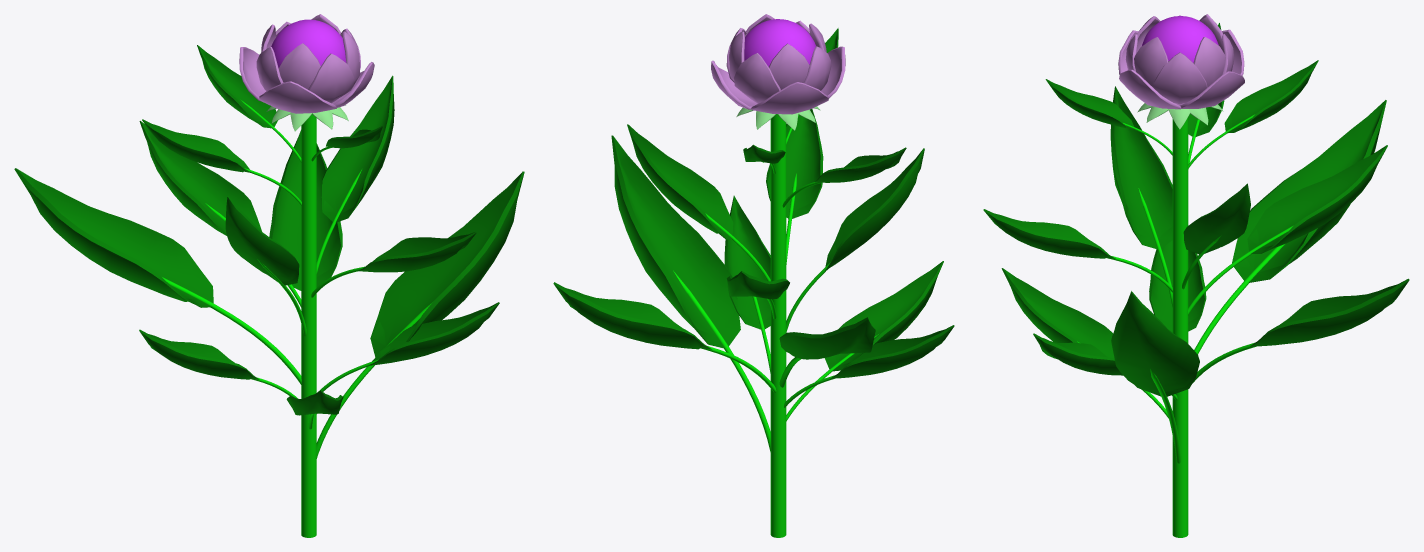
The model's file is Kaihuku.fbx.
The picture shows the model from 3 angles, left to right: view 1: azimuth 30°, elevation 25°; view 2: azimuth 150°, elevation 25°; view 3: azimuth 270°, elevation 25°; orthographic projection.
Visible parts, largest first — view 1: pCylinder7, pPlane13, pCylinder2, pSphere1, pPlane7; view 2: pCylinder7, pPlane13, pCylinder2, pSphere1, pPlane7; view 3: pCylinder7, pPlane13, pCylinder2, pSphere1, pPlane7.
Part boxes in pixels (x1,y1,x2,y2): pCylinder7: (14,45,524,458); pPlane13: (239,14,374,113); pCylinder2: (301,114,316,537); pSphere1: (271,19,346,67); pPlane7: (266,105,348,131); pCylinder7: (553,28,954,451); pPlane13: (711,14,845,114); pCylinder2: (770,114,786,537); pSphere1: (744,19,815,66); pPlane7: (736,106,820,130); pCylinder7: (983,23,1409,463); pPlane13: (1118,14,1244,109); pCylinder2: (1172,117,1188,537); pSphere1: (1142,16,1218,62); pPlane7: (1137,103,1223,129).
Bounding box in the file's own units: 9.97 × 12.7 × 9.53.
